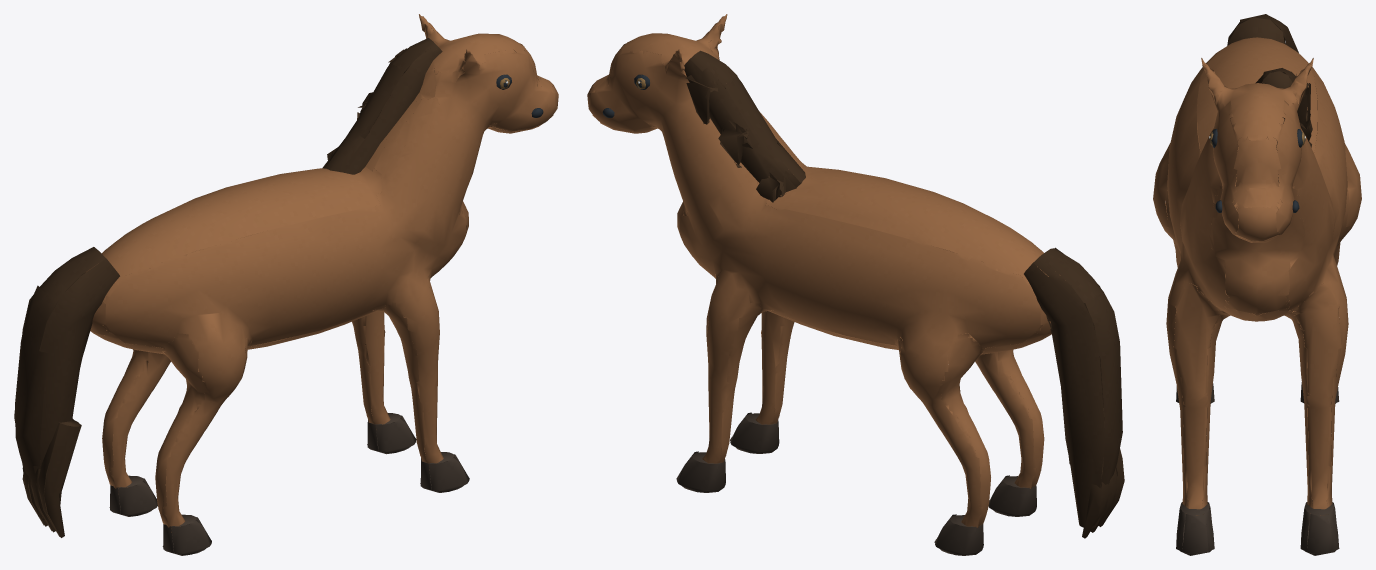
File: horse.glb
The picture shows the model from 3 angles, left to right: view 1: azimuth 30°, elevation 25°; view 2: azimuth 150°, elevation 25°; view 3: azimuth 270°, elevation 25°; orthographic projection. The views are drawn at different scales.
Visible parts, largest first — view 1: Continuous anatomical skin; view 2: Continuous anatomical skin; view 3: Continuous anatomical skin.
Part boxes in pixels (x1,y1,x2,y2): Continuous anatomical skin: [14, 14, 558, 555]; Continuous anatomical skin: [587, 14, 1124, 555]; Continuous anatomical skin: [1153, 14, 1361, 555].
Bounding box in the file's own units: 2.8 × 2.15 × 0.8113.
6 materials, 6 textured.
